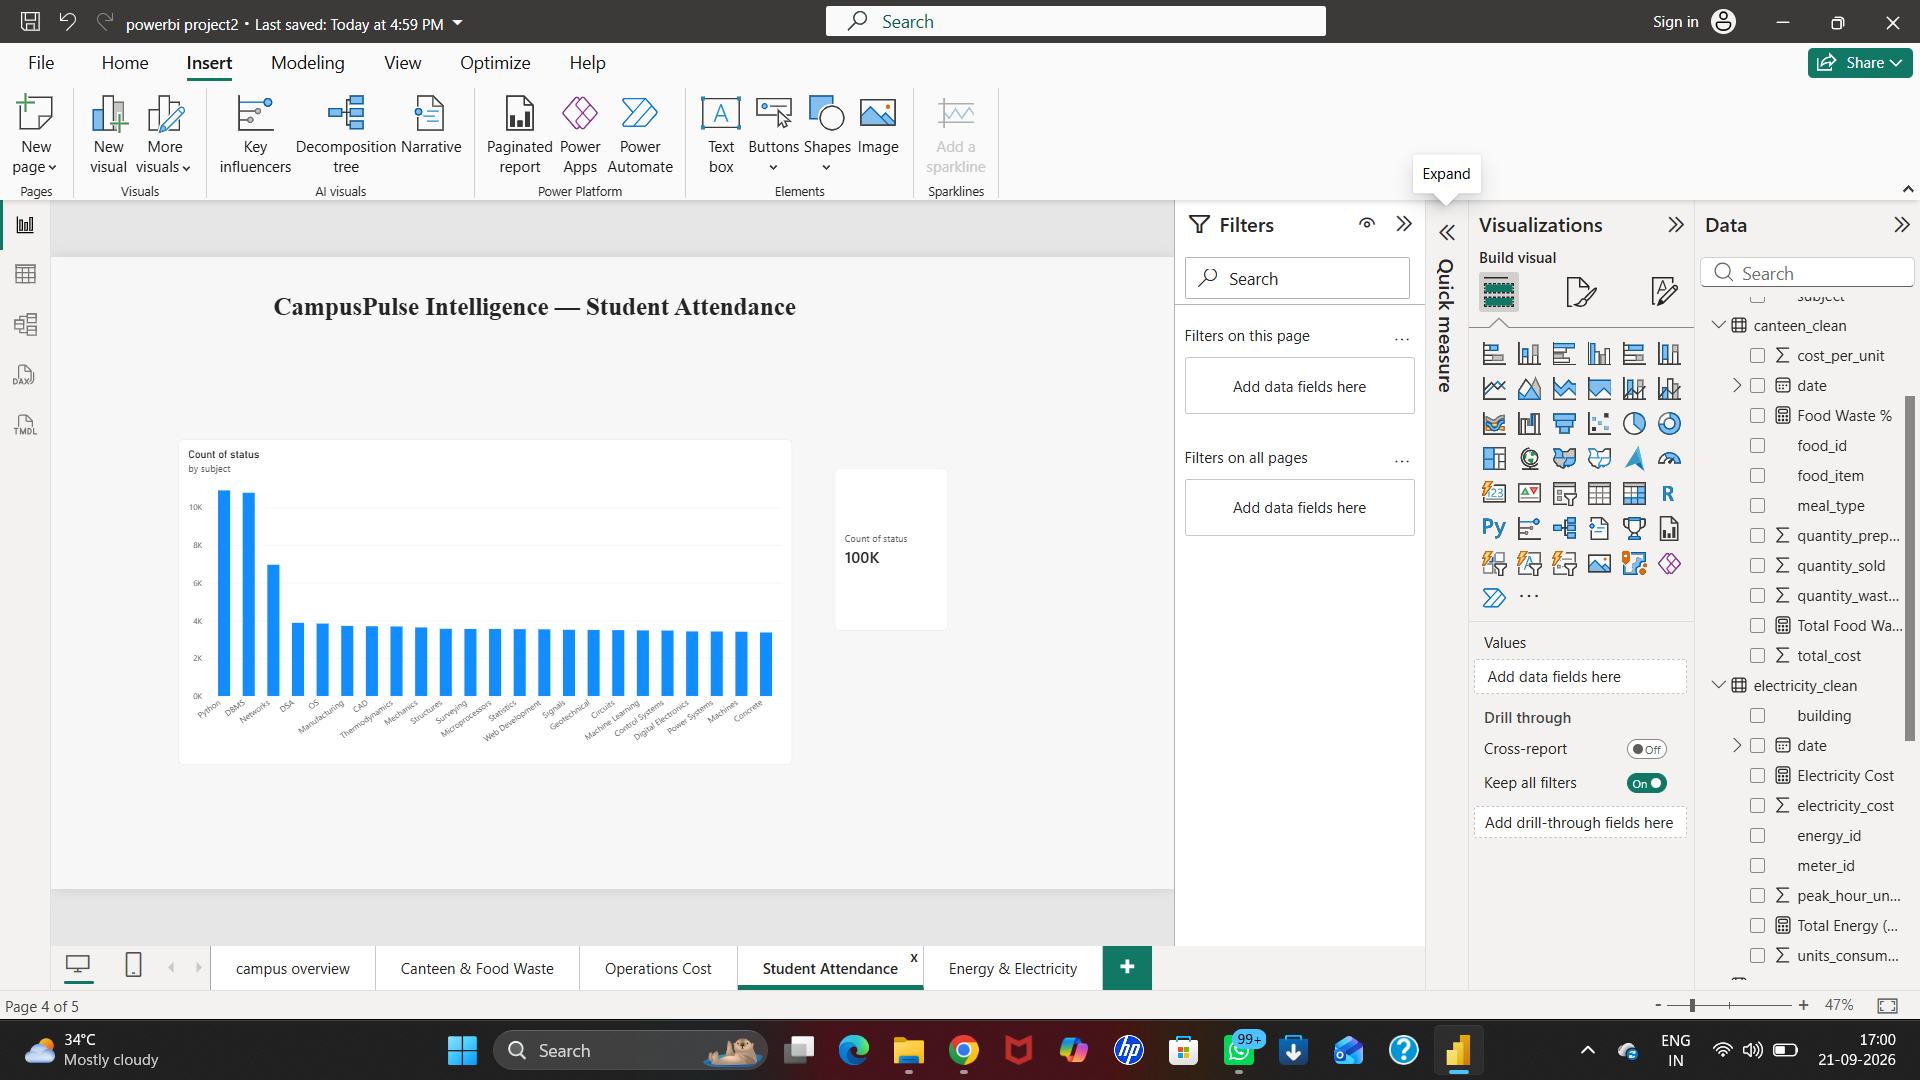

This screenshot's page, from the dashboard's own definition file:
{"tool":"powerbi","page":{"name":"Student Attendance","canvas":[1920,1080],"ordinal":3},"visuals":[{"type":"cardVisual","fields":{"Data":["CountNonNull(attendance_clean.status)"]},"box":[1340.6,361.3,193.2,278.3],"z":0},{"type":"clusteredColumnChart","fields":{"Category":["attendance_clean.subject"],"Y":["CountNonNull(attendance_clean.status)"]},"box":[218.1,312.2,1049.8,555.9],"z":1},{"type":"textbox","box":[380.6,59.9,1252.9,72.7],"z":2}]}

Visuals, with their boxes on the page's 1920x1080 design canvas (x1, y1, x2, y2). These are canvas units, not pixel positions in the 1920x1080 screenshot, which may show the page scaled, cropped or inside an application window:
cardVisual - CountNonNull(attendance_clean.status): {"x1": 1341, "y1": 361, "x2": 1534, "y2": 640}
clusteredColumnChart - attendance_clean.subject x CountNonNull(attendance_clean.status): {"x1": 218, "y1": 312, "x2": 1268, "y2": 868}
textbox: {"x1": 381, "y1": 60, "x2": 1634, "y2": 133}
